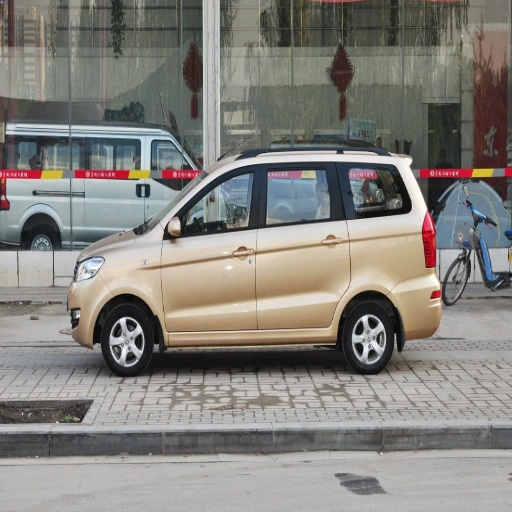back_left_door: (255, 164, 350, 330)
front_left_door: (161, 165, 259, 332)
